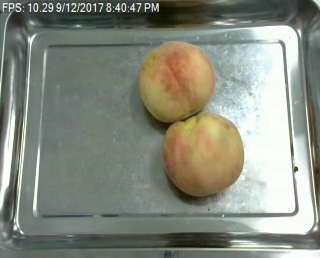Peach: (162, 110, 244, 196), (138, 40, 217, 121)
